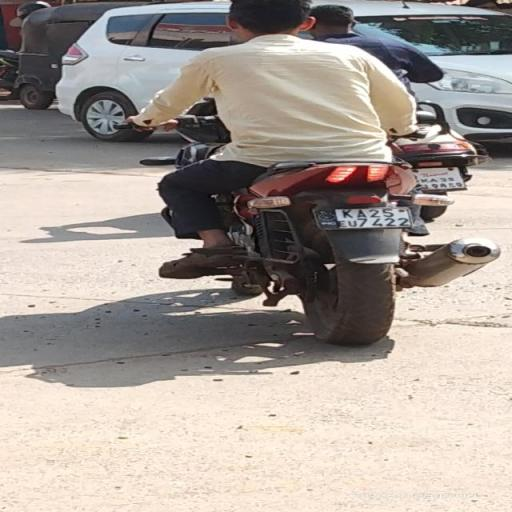bike: (119, 0, 502, 346)
numberplate: (320, 198, 416, 232)
withouthelmet: (232, 0, 314, 36)
